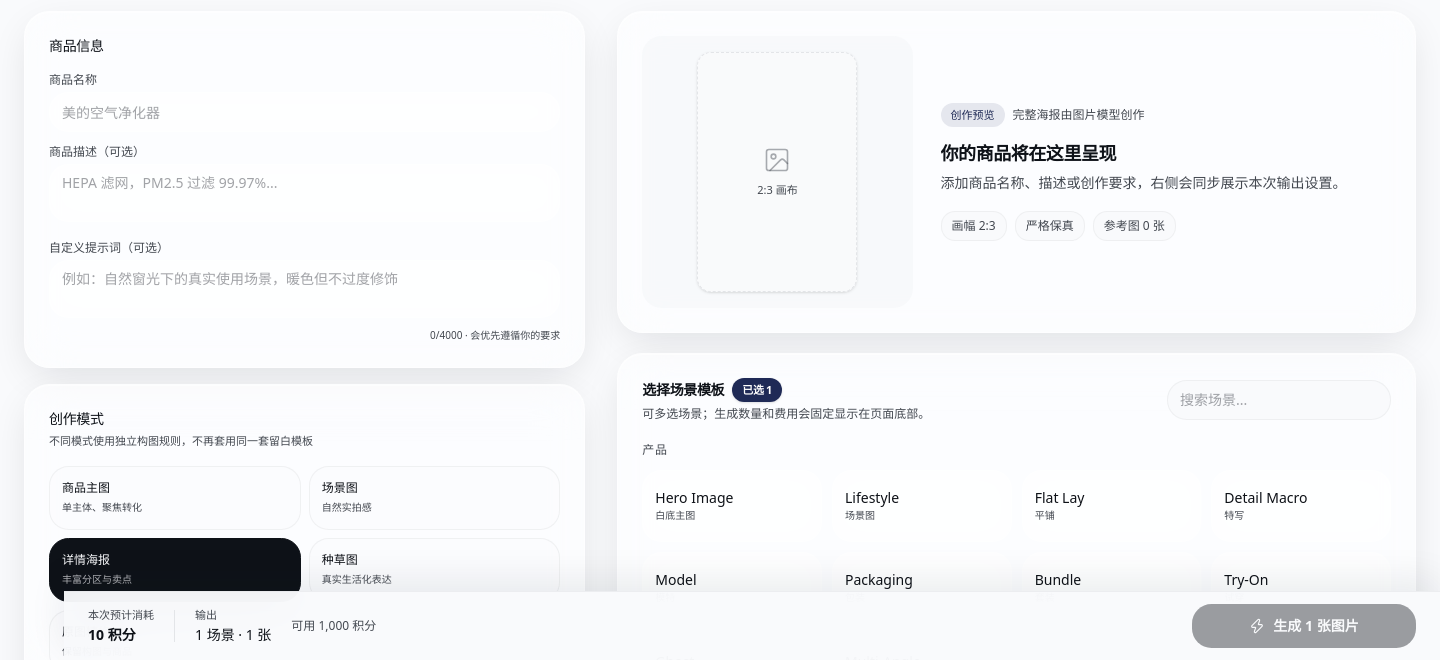
Scenario: Paywall (insufficient credits) › scales credit cost with scene count
Type "test" into the field with placeholder "美的空气净化器". click: [305, 112]
box: [49, 92, 560, 132]
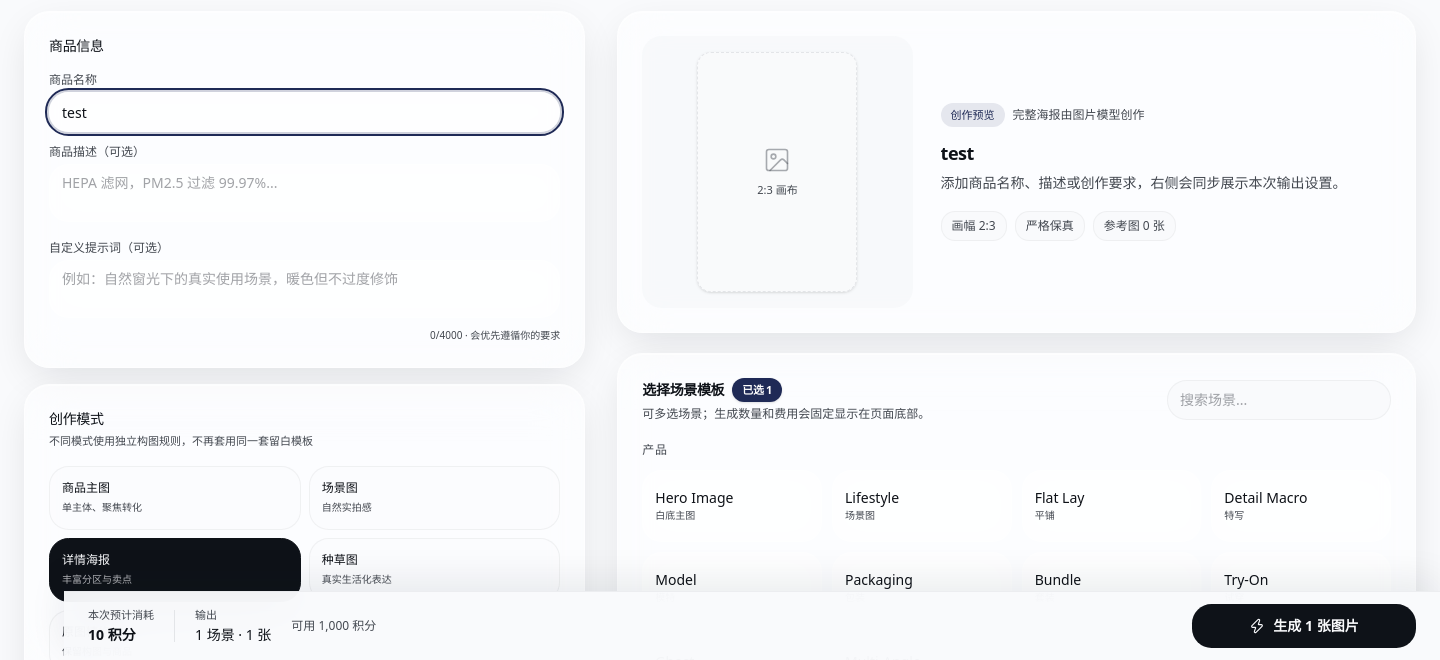
Click the button with test id "scene-card". click: [732, 506]
box: [642, 470, 822, 542]
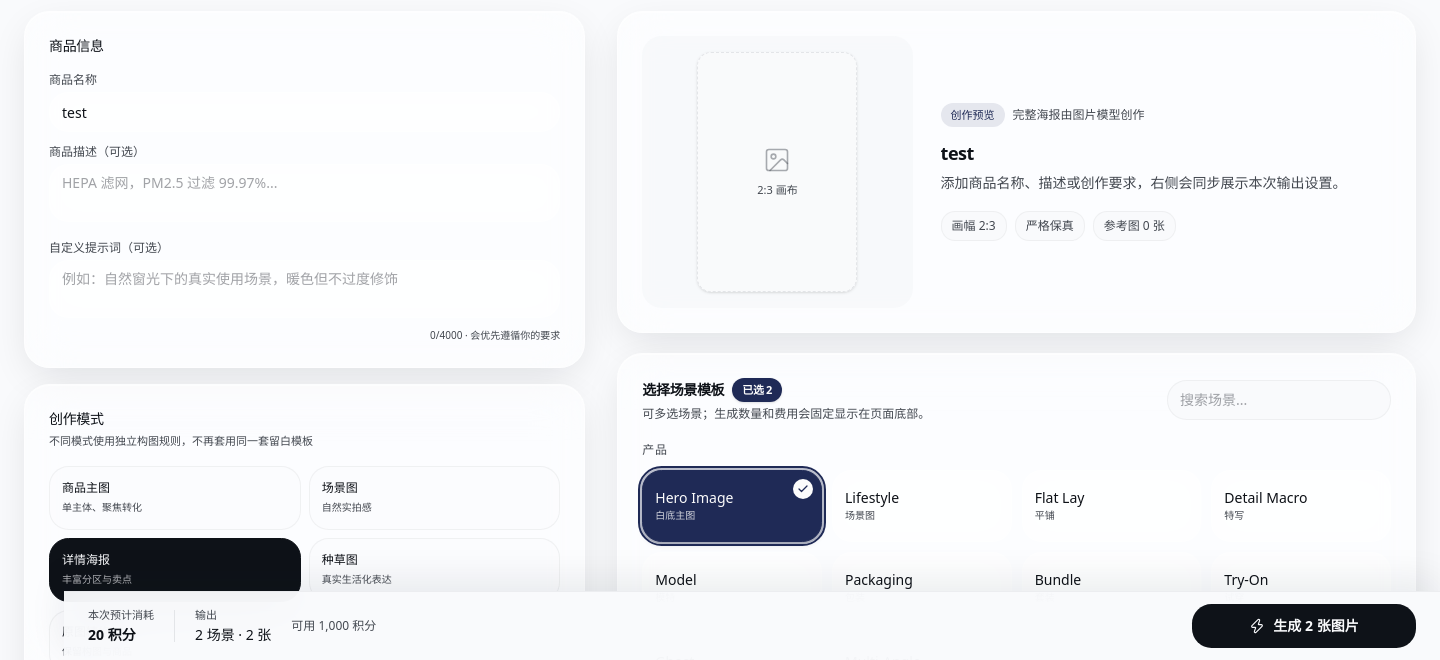
Click the button with test id "scene-card". click: [922, 506]
box: [832, 470, 1012, 542]
(page scrolled)
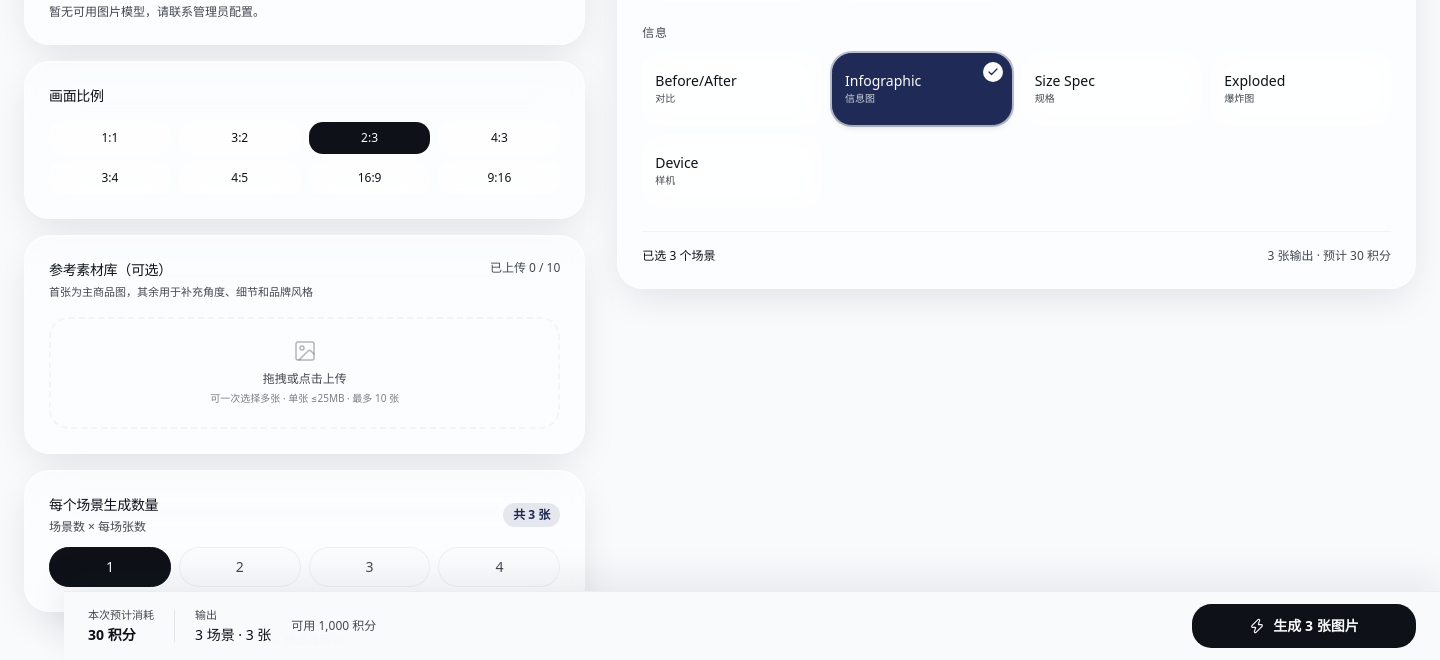
Check: the text "3 张输出 · 预计 30 积分" is shown, box [1268, 248, 1391, 264]
